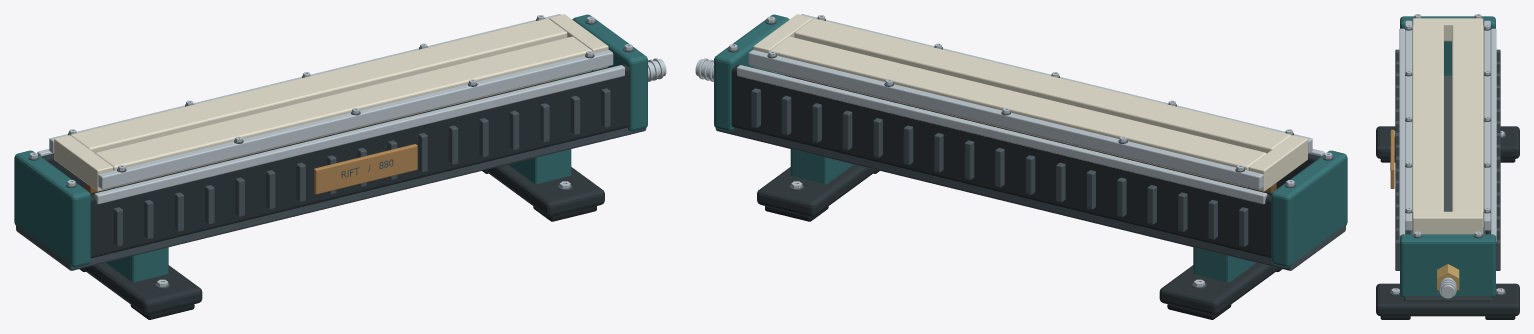
File: linear-burner.glb
3 renders of one model, left to right at view 1: azimuth 30°, elevation 25°; view 2: azimuth 150°, elevation 25°; view 3: azimuth 270°, elevation 25°, orthographic. The views are drawn at different scales.
Visible parts, largest first — view 1: chassis_wall_front, ceramic_lip_rear, ceramic_lip_front, lip_retainer_-1, upper_stainless_trim_-1, teal_end_block_1, plenum_floor, crossfoot_1, crossfoot_2, front_identity_plate, teal_end_block_2, end_slot_stop_1 (+5 smaller); view 2: chassis_wall_rear, ceramic_lip_front, ceramic_lip_rear, lip_retainer_1, upper_stainless_trim_1, teal_end_block_1, plenum_floor, crossfoot_1, crossfoot_2, teal_end_block_2, end_slot_stop_1, raised_saddle_2 (+4 smaller); view 3: ceramic_lip_front, ceramic_lip_rear, teal_end_block_2, crossfoot_2, end_slot_stop_2, plenum_floor, lip_retainer_-1, lip_retainer_1, upper_stainless_trim_-1, upper_stainless_trim_1, crossfoot_1, teal_end_block_1 (+8 smaller).
Part boxes in pixels (x1,y1,x2,y2): chassis_wall_front: [90, 64, 630, 258]; ceramic_lip_rear: [70, 18, 567, 153]; ceramic_lip_front: [95, 36, 591, 187]; lip_retainer_-1: [98, 50, 613, 189]; upper_stainless_trim_-1: [94, 65, 624, 204]; teal_end_block_1: [14, 150, 90, 267]; plenum_floor: [16, 127, 646, 270]; crossfoot_1: [82, 262, 202, 315]; crossfoot_2: [484, 164, 604, 216]; front_identity_plate: [314, 144, 417, 194]; teal_end_block_2: [572, 14, 647, 131]; end_slot_stop_1: [54, 135, 113, 191]; chassis_wall_rear: [731, 64, 1271, 258]; ceramic_lip_front: [794, 18, 1291, 153]; ceramic_lip_rear: [770, 36, 1266, 187]; lip_retainer_1: [748, 50, 1263, 189]; upper_stainless_trim_1: [737, 65, 1267, 204]; teal_end_block_1: [1271, 150, 1347, 267]; plenum_floor: [715, 127, 1345, 270]; crossfoot_1: [1159, 262, 1279, 315]; crossfoot_2: [757, 164, 877, 216]; teal_end_block_2: [714, 14, 789, 131]; end_slot_stop_1: [1248, 135, 1307, 191]; raised_saddle_2: [790, 149, 853, 183]; ceramic_lip_front: [1412, 25, 1443, 227]; ceramic_lip_rear: [1452, 25, 1483, 227]; teal_end_block_2: [1400, 234, 1495, 297]; crossfoot_2: [1376, 283, 1519, 316]; end_slot_stop_2: [1412, 211, 1483, 234]; plenum_floor: [1403, 75, 1492, 301]; lip_retainer_-1: [1405, 20, 1412, 230]; lip_retainer_1: [1483, 20, 1490, 230]; upper_stainless_trim_-1: [1399, 28, 1405, 241]; upper_stainless_trim_1: [1490, 28, 1496, 241]; crossfoot_1: [1376, 126, 1519, 158]; teal_end_block_1: [1400, 16, 1495, 75].
Size of the model in its own units: 1.14 by 0.2535 by 0.286.
